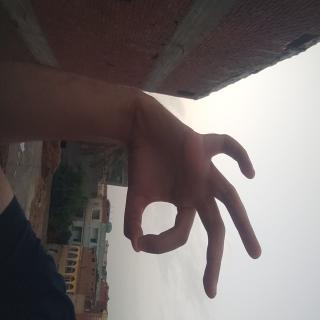Space: (59, 68, 226, 280)
